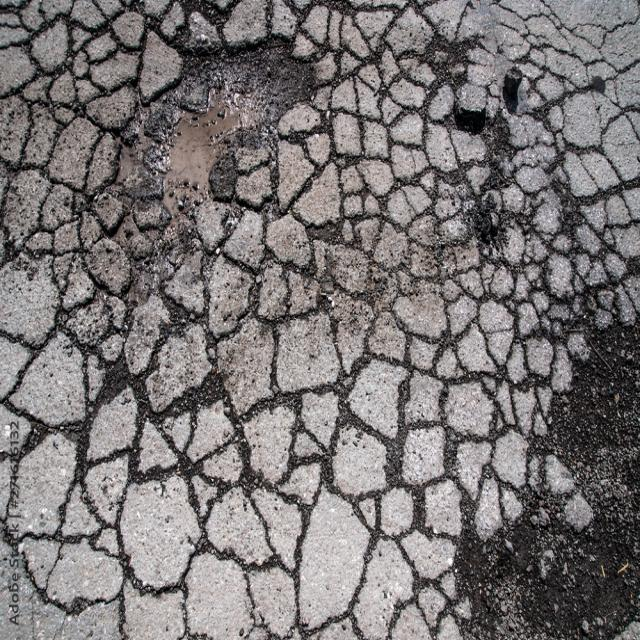Drain Hole: (2, 0, 430, 559)
